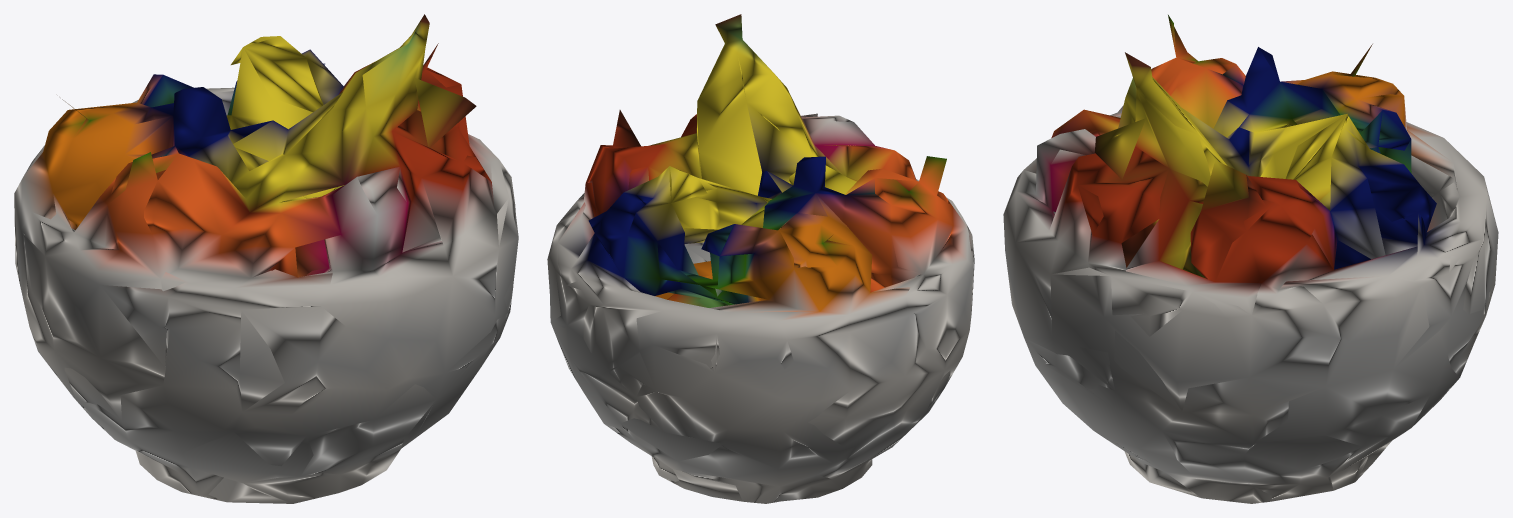
Rendered from gen3d-fruit-bowl-lod0.glb.
3 renders of one model, left to right at view 1: azimuth 30°, elevation 25°; view 2: azimuth 150°, elevation 25°; view 3: azimuth 270°, elevation 25°, orthographic. The views are drawn at different scales.
Parts seen in each view (by area): view 1: part_0; view 2: part_0; view 3: part_0.
Boxes of the visible parts, x1,y1,x2,y2 form: part_0: [14, 14, 518, 503]; part_0: [547, 14, 974, 503]; part_0: [1003, 15, 1498, 503].
Bounding box in the file's own units: 1 × 0.9908 × 1.
